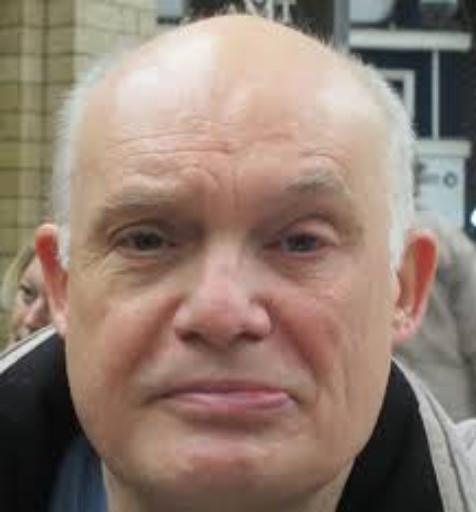left_eye: (263, 231, 340, 260)
left_lip_corner: (280, 383, 309, 414)
right_eye: (112, 230, 184, 260)
right_lip_corner: (141, 384, 182, 414)
